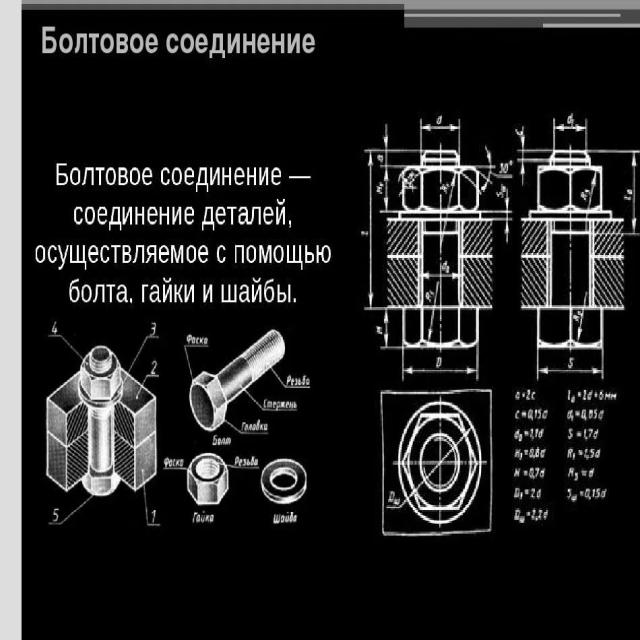marking_line: (539, 367, 602, 376), (632, 153, 638, 233), (405, 367, 477, 373), (503, 220, 511, 249), (505, 185, 510, 209)
